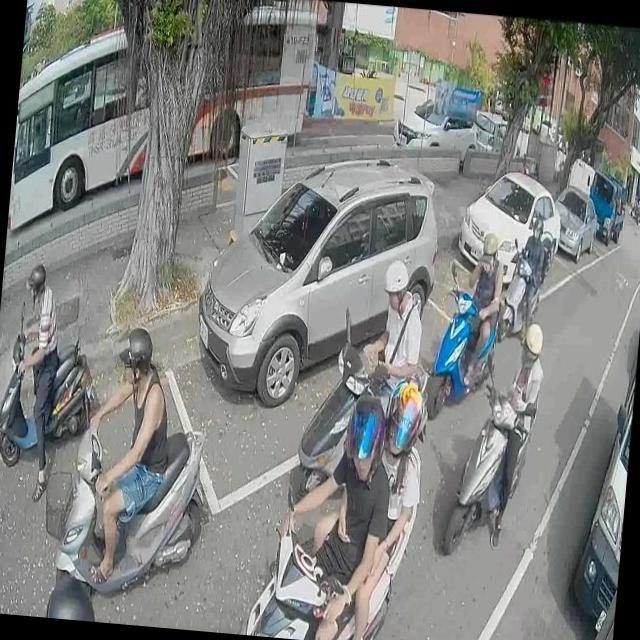person: (256, 392, 401, 640), (307, 362, 428, 640), (71, 313, 178, 592), (1, 257, 72, 503), (482, 311, 544, 551), (361, 252, 426, 418), (446, 218, 504, 388), (510, 220, 552, 338), (45, 561, 99, 620)
